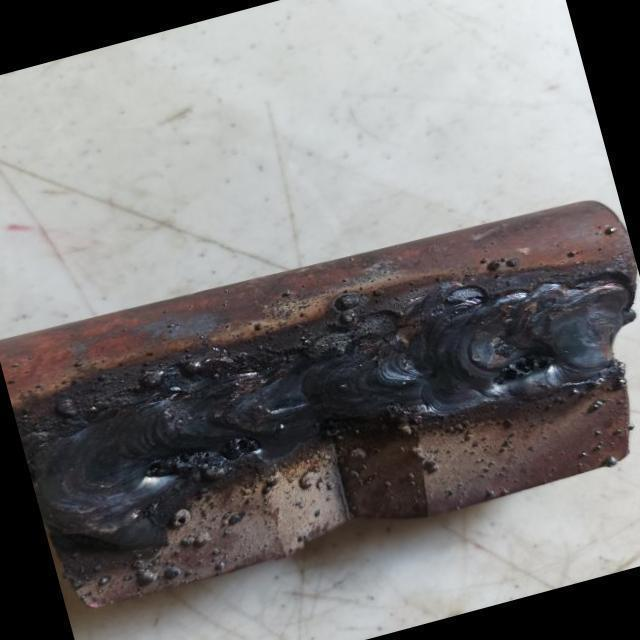defect: (487, 352, 559, 388), (142, 448, 223, 478), (219, 434, 261, 457)
